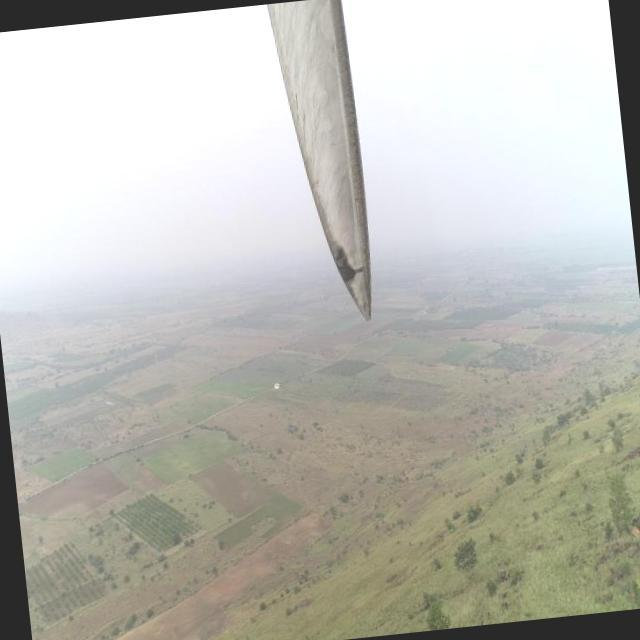Dirt: (264, 4, 376, 322)
Oil LEAKAGE: (331, 244, 366, 284)
